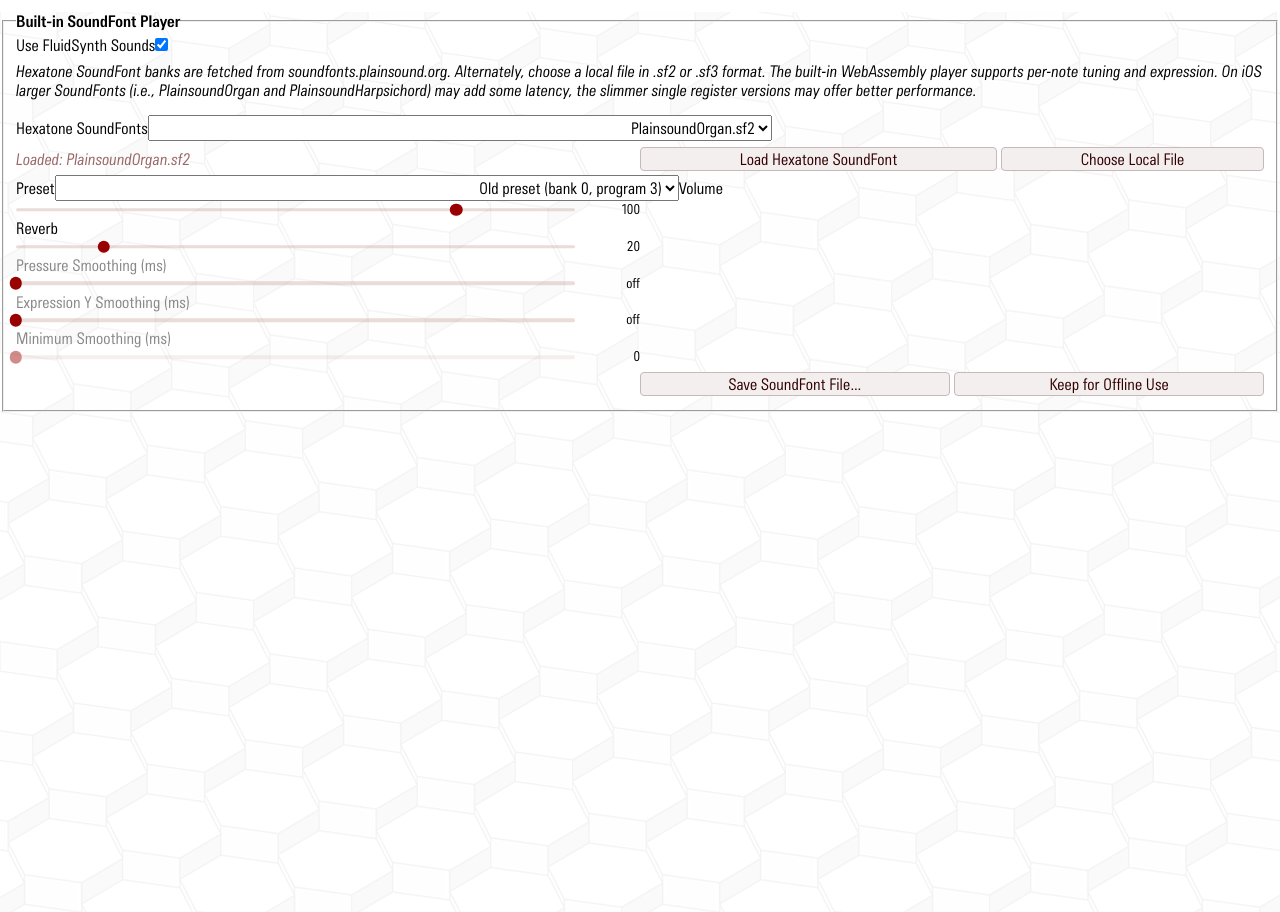
Test: FluidSynth settings › does not show stale presets or storage actions for a newly selected bank
expect the dropdown named "FluidSynth preset" shows "Old preset (bank 0, program 3)": met, box x1=55 y1=175 x2=679 y2=201
Select "PlainsoundSrutibox.sf2" in the dropdown named "Hexatone FluidSynth SoundFont": (460,128) x1=148 y1=115 x2=772 y2=141
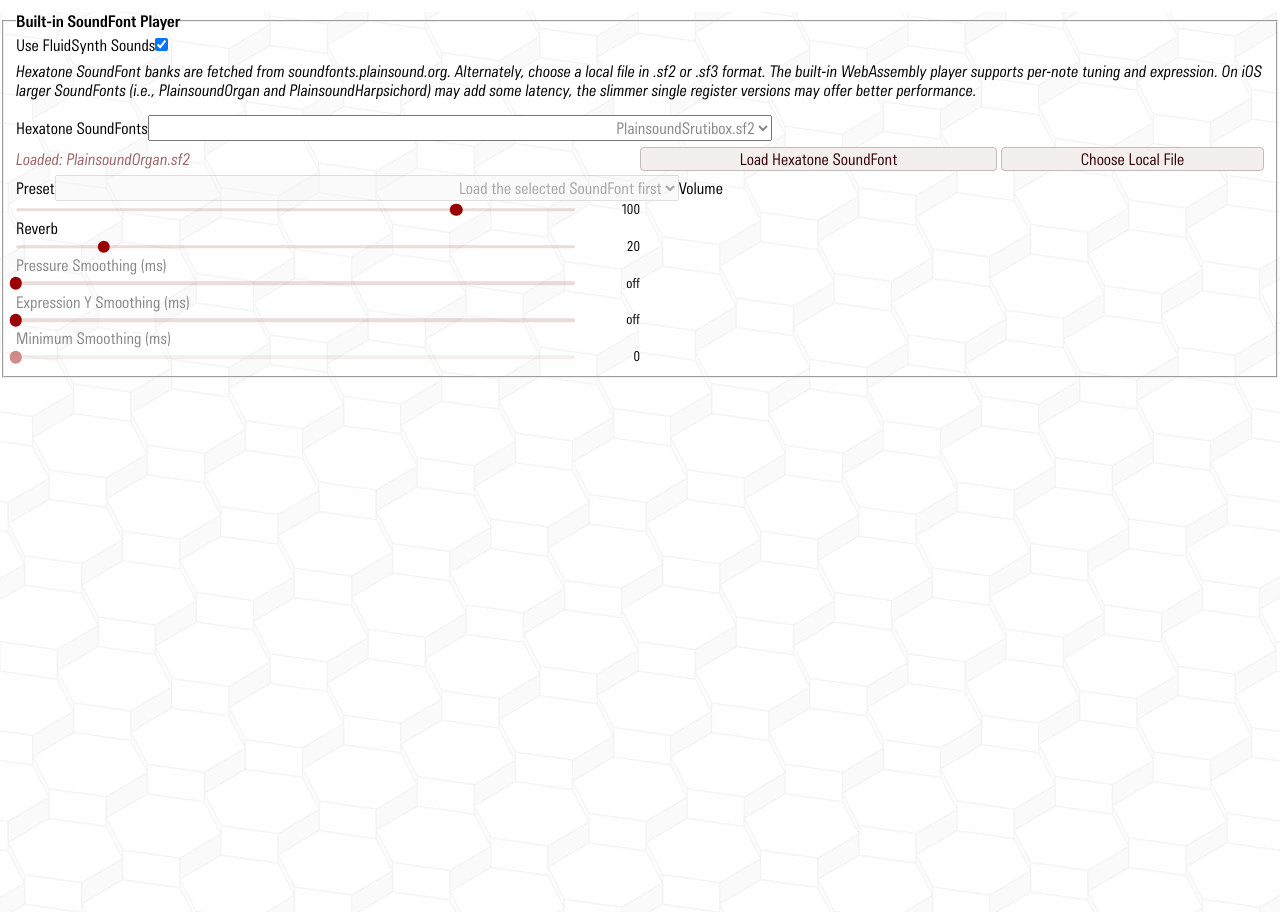
expect the option "Old preset" is not shown: met
expect the dropdown named "FluidSynth preset" is disabled: met, box x1=55 y1=175 x2=679 y2=201
expect the button "Save SoundFont File…" is gone: met
